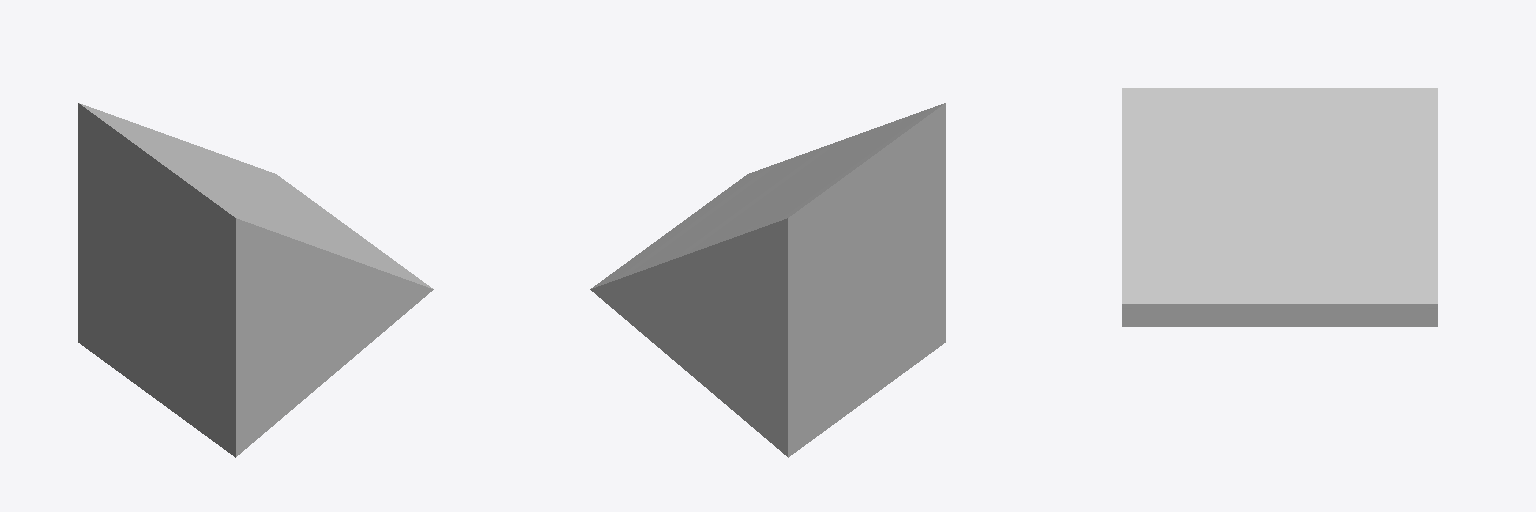
Rendered from triangle_peg.obj.
The picture shows the model from 3 angles: view 1: azimuth 30°, elevation 25°; view 2: azimuth 150°, elevation 25°; view 3: azimuth 270°, elevation 25°; orthographic projection.
Bounding box in the file's own units: 0.0553 × 0.0639 × 0.0762.